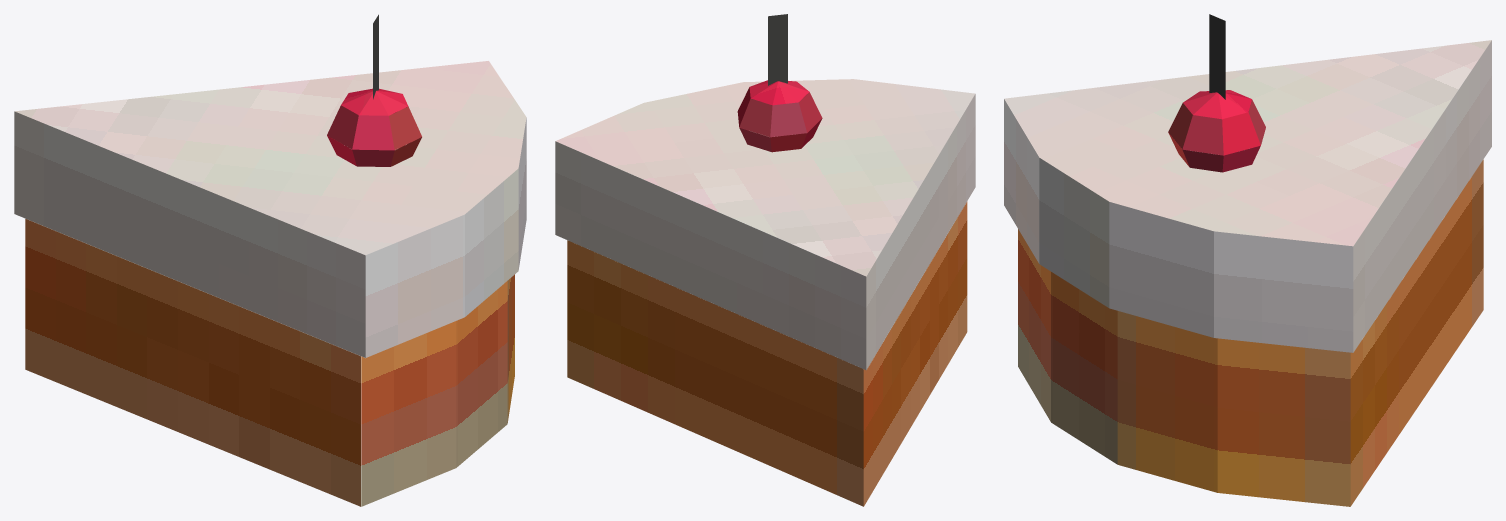
Rendered from carrot_cake-optimized.glb.
3 views of the same model, side by side, from view 1: azimuth 30°, elevation 25°; view 2: azimuth 150°, elevation 25°; view 3: azimuth 270°, elevation 25° (orthographic). The views are drawn at different scales.
Visible parts, largest first — view 1: plane (×2), sphere; view 2: plane (×3), sphere; view 3: plane (×3), sphere.
Boxes of the visible parts, bbox=[...] form: plane (×2): bbox=[14, 61, 526, 506]; sphere: bbox=[327, 88, 421, 166]; plane (×3): bbox=[555, 14, 975, 506]; sphere: bbox=[737, 80, 822, 152]; plane (×3): bbox=[1004, 14, 1491, 506]; sphere: bbox=[1168, 90, 1265, 172].
Size of the model in its own units: 0.6482 by 0.5938 by 0.6482.
Materials: 1 (1 with a texture image).
